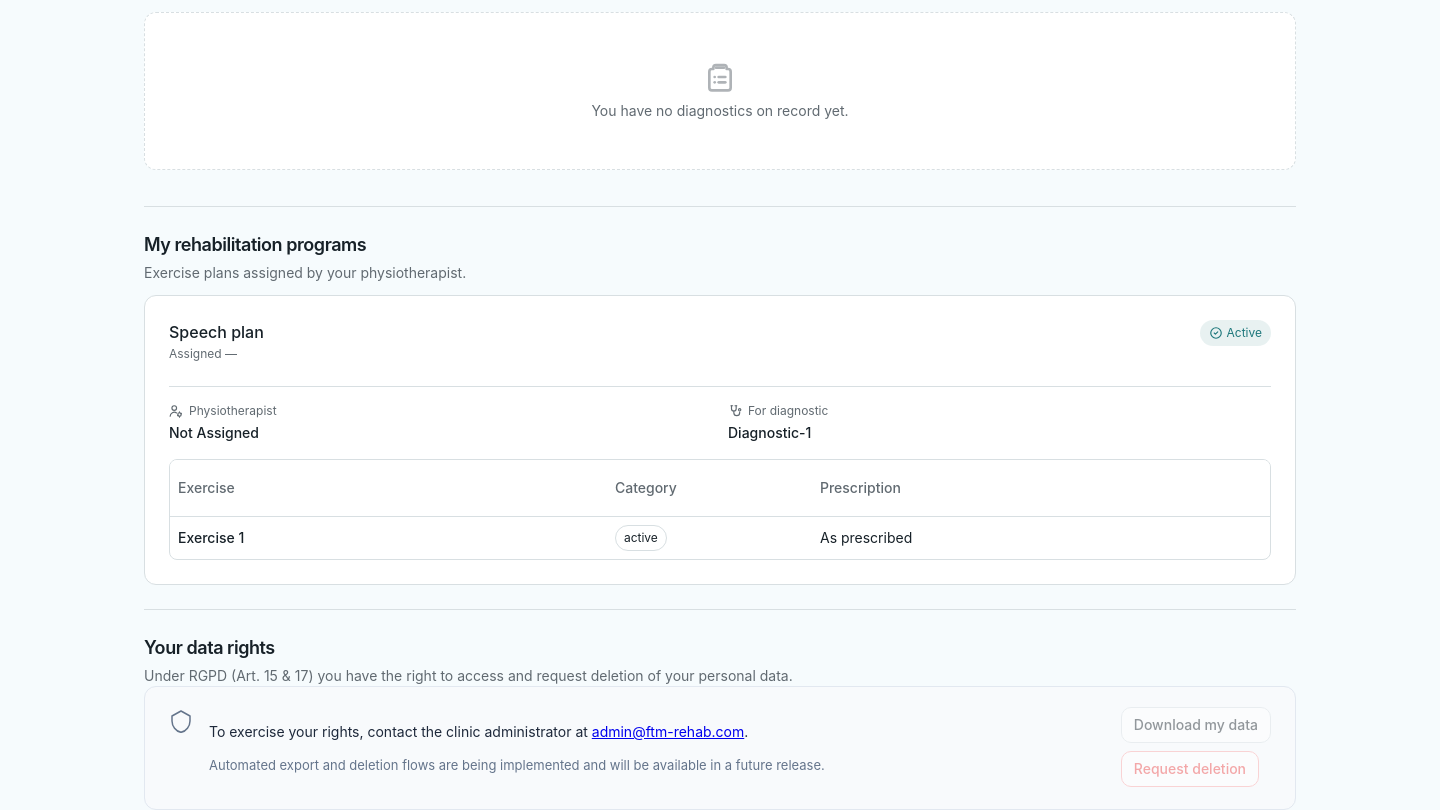
UC-05 patient recording navigation › deletes a saved recording from the recordings table
This screenshot has width=1440, height=810.
(page scrolled)
Click the link with aria-label "speech plan: view exercises" at (720, 440), box [144,295,1296,585]
(page scrolled)
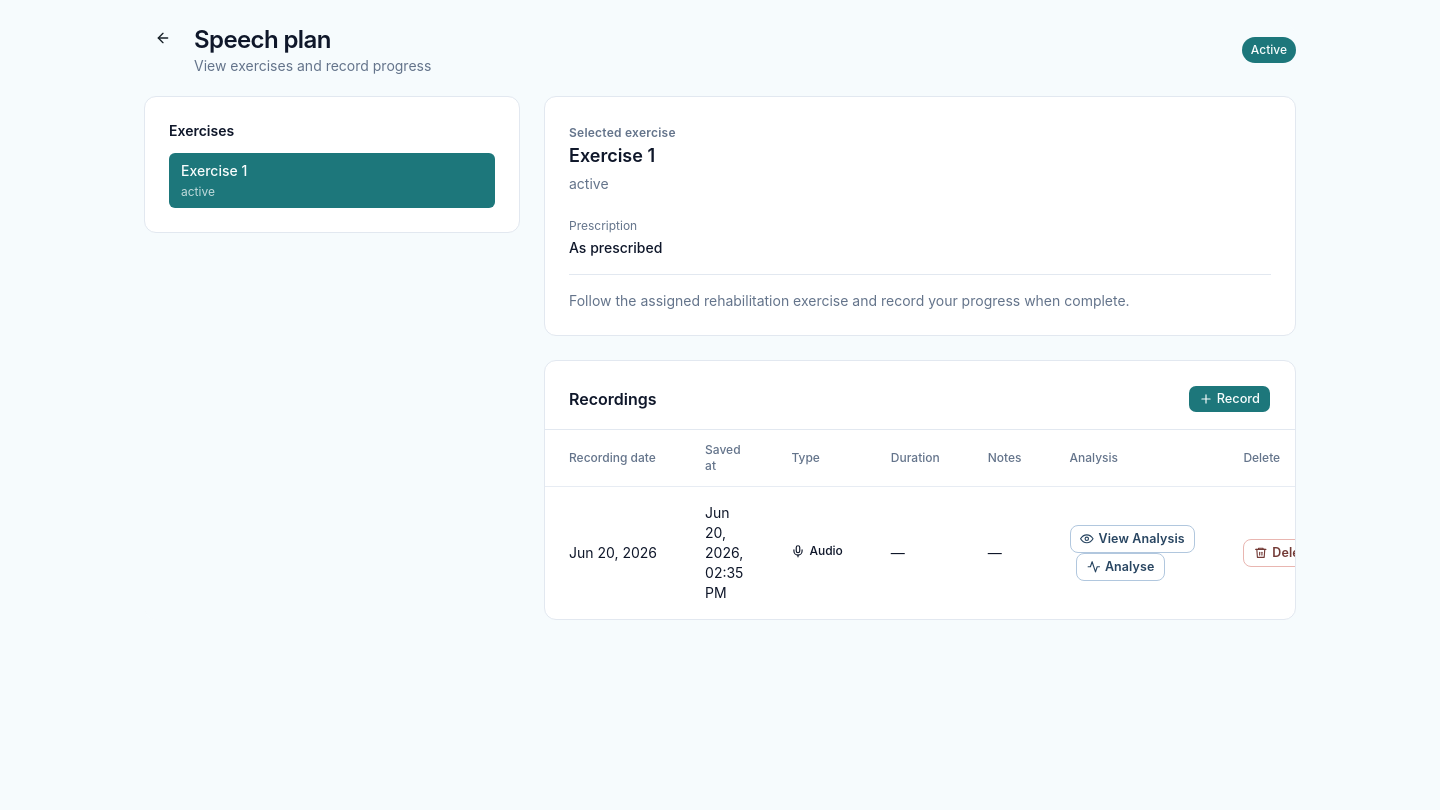
Click the button with aria-label "delete this recording" at (1283, 553), box [1243,539,1322,567]
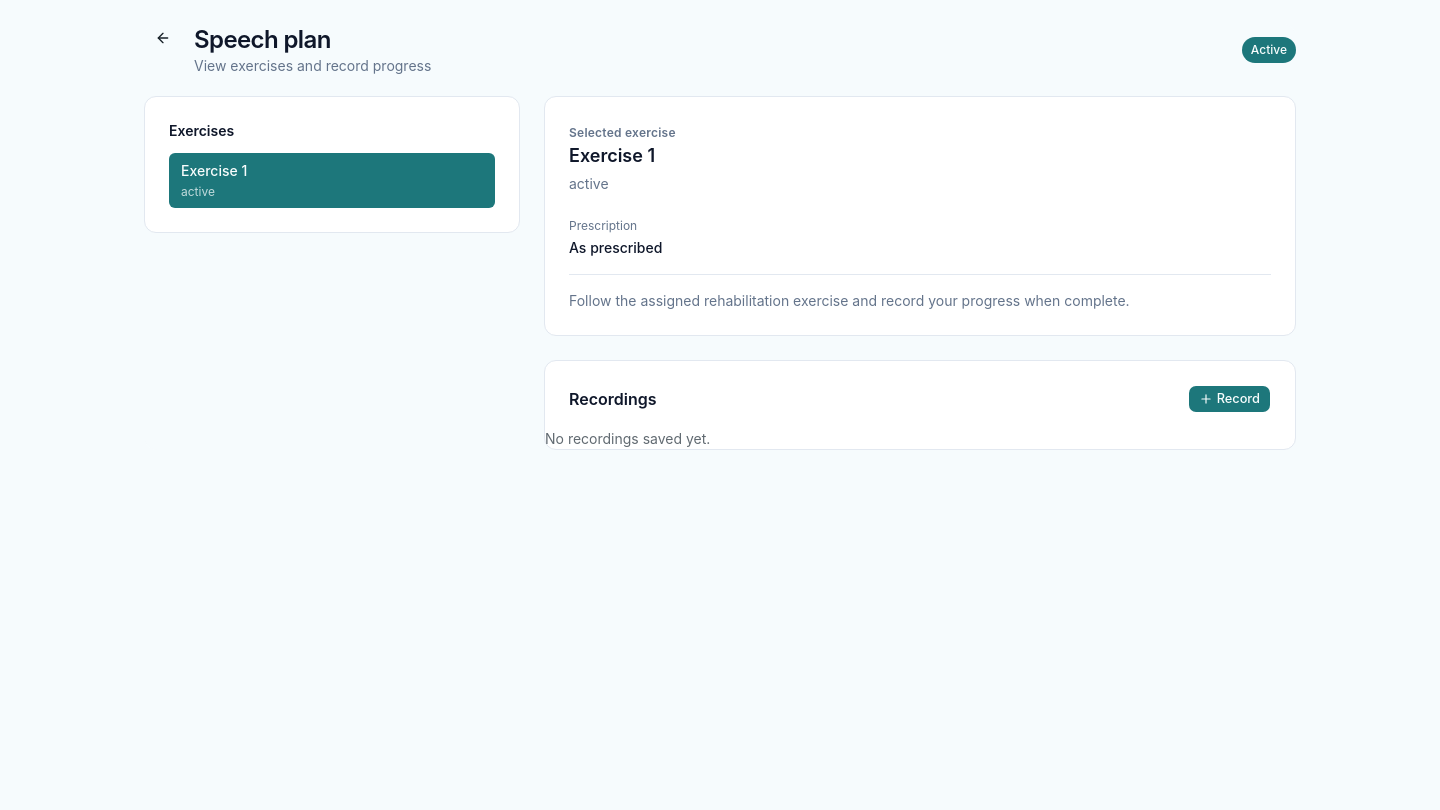
Now the text "No recordings saved yet." is shown, box [545,430,710,447]
